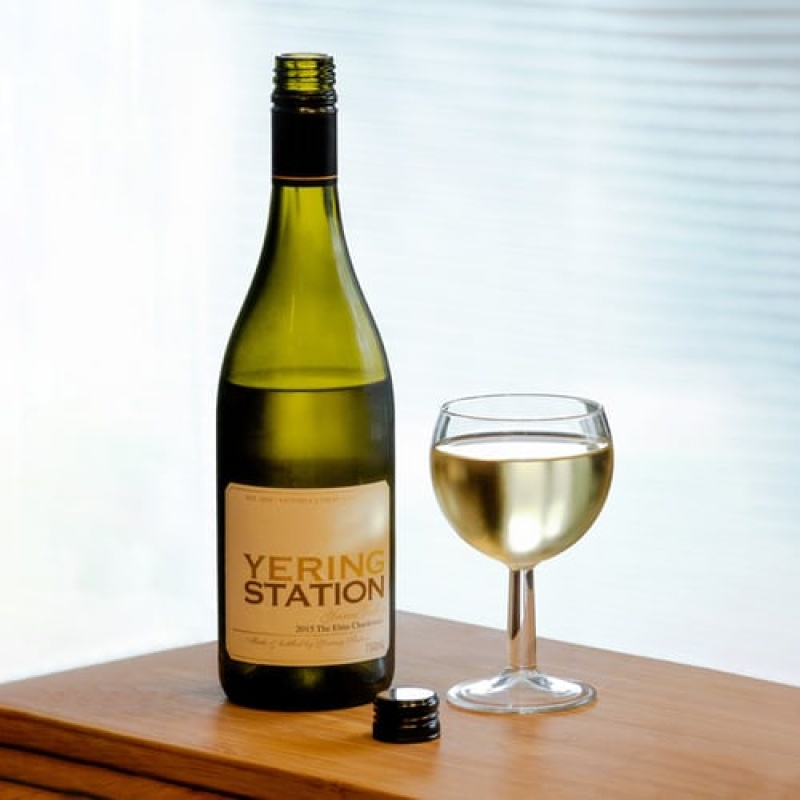wine: (216, 57, 393, 689)
